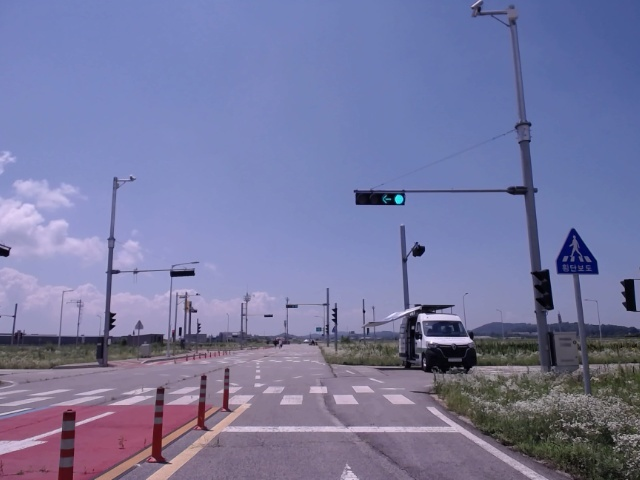all_green_4: (351, 191, 403, 208)
